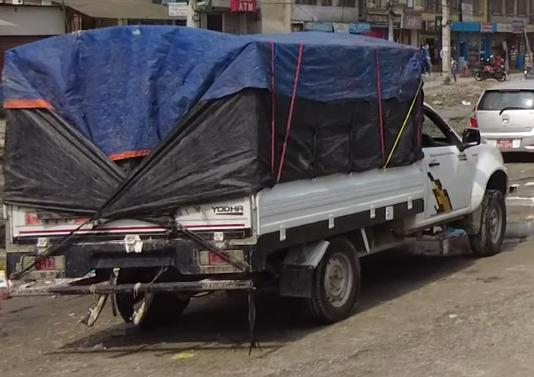car: (473, 79, 534, 170)
transport_vehicle: (11, 24, 512, 329)
